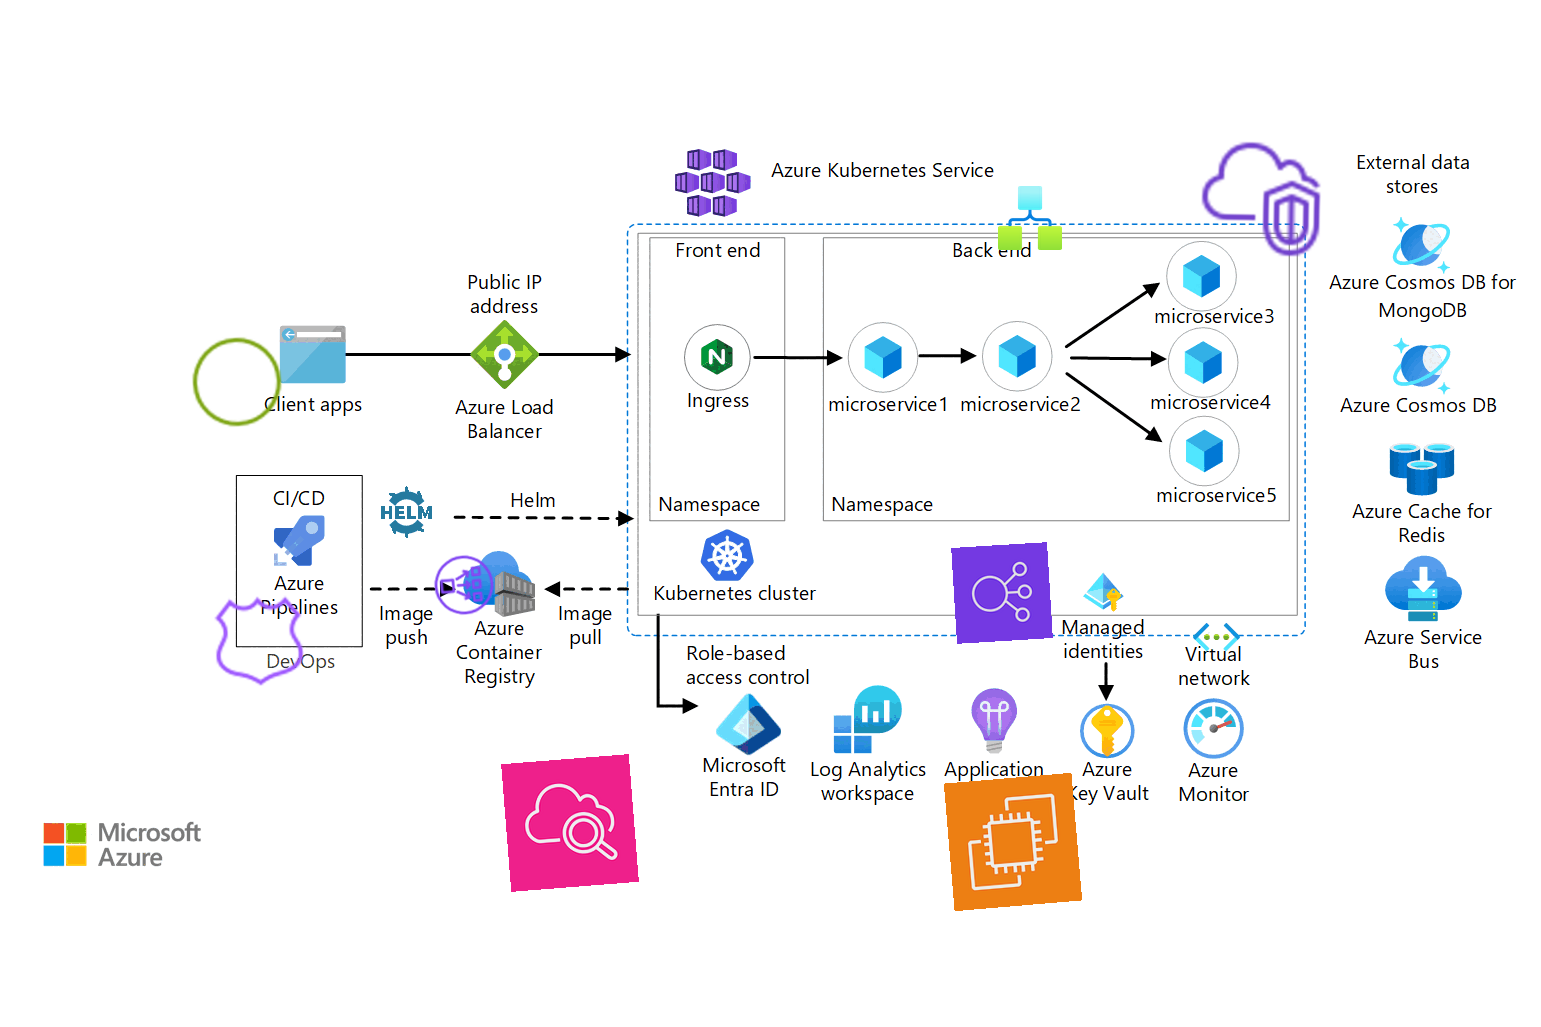aws_amazon_cloudwatch: (501, 754, 639, 892)
aws_amazon_ec2: (943, 773, 1083, 912)
aws_elastic_load_balancing: (951, 542, 1053, 644)
aws_elastic_load_balancing_network_load_balancer: (429, 550, 500, 620)
aws_route_53_hosted_zone: (209, 590, 310, 692)
aws_simple_storage_service_object: (186, 331, 288, 433)
aws_vpc_virtual_private_cloud_vpc: (1195, 133, 1327, 265)
azure_logic_apps: (997, 185, 1063, 251)
